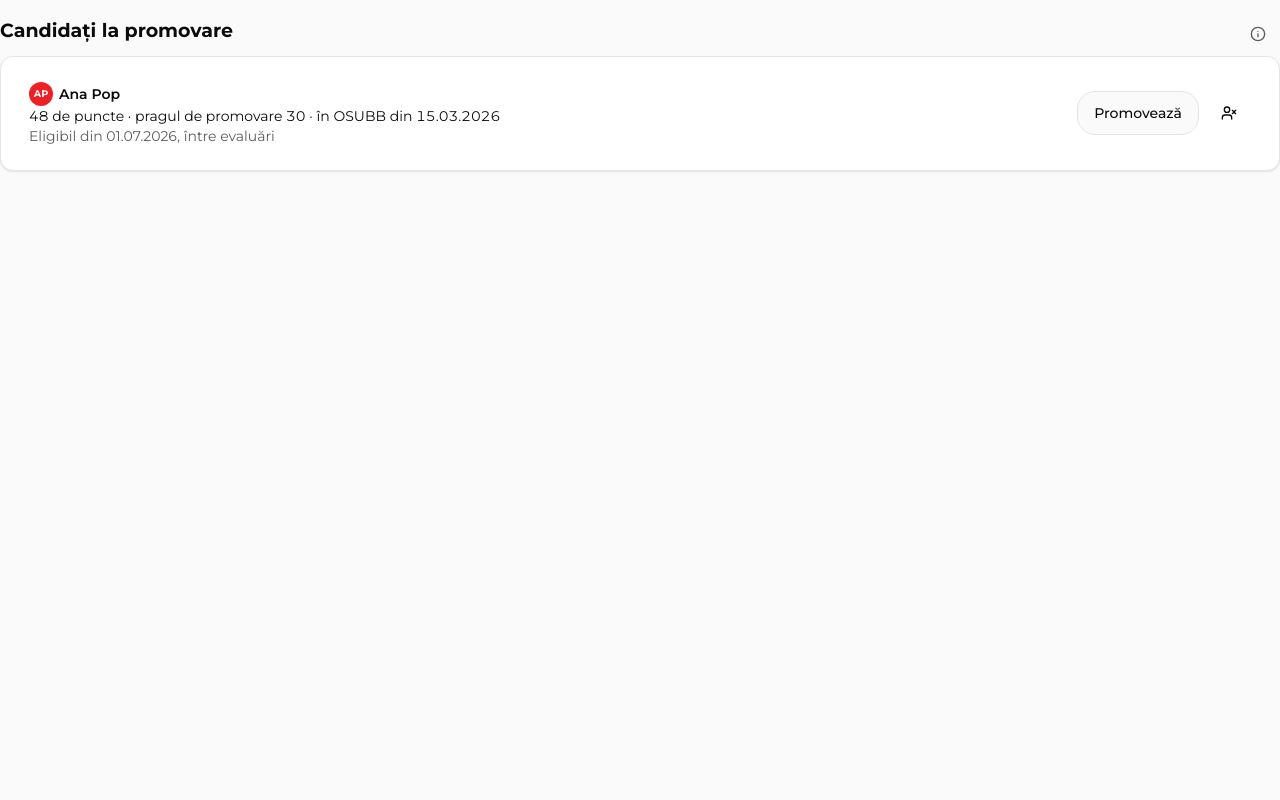
Scenario: names the Membership Cutoff Date, not the months of tenure, in what it explains
Step 1. Click the button named "Despre candidații la promovare" → x=1258, y=34, box [1236,12,1279,56]
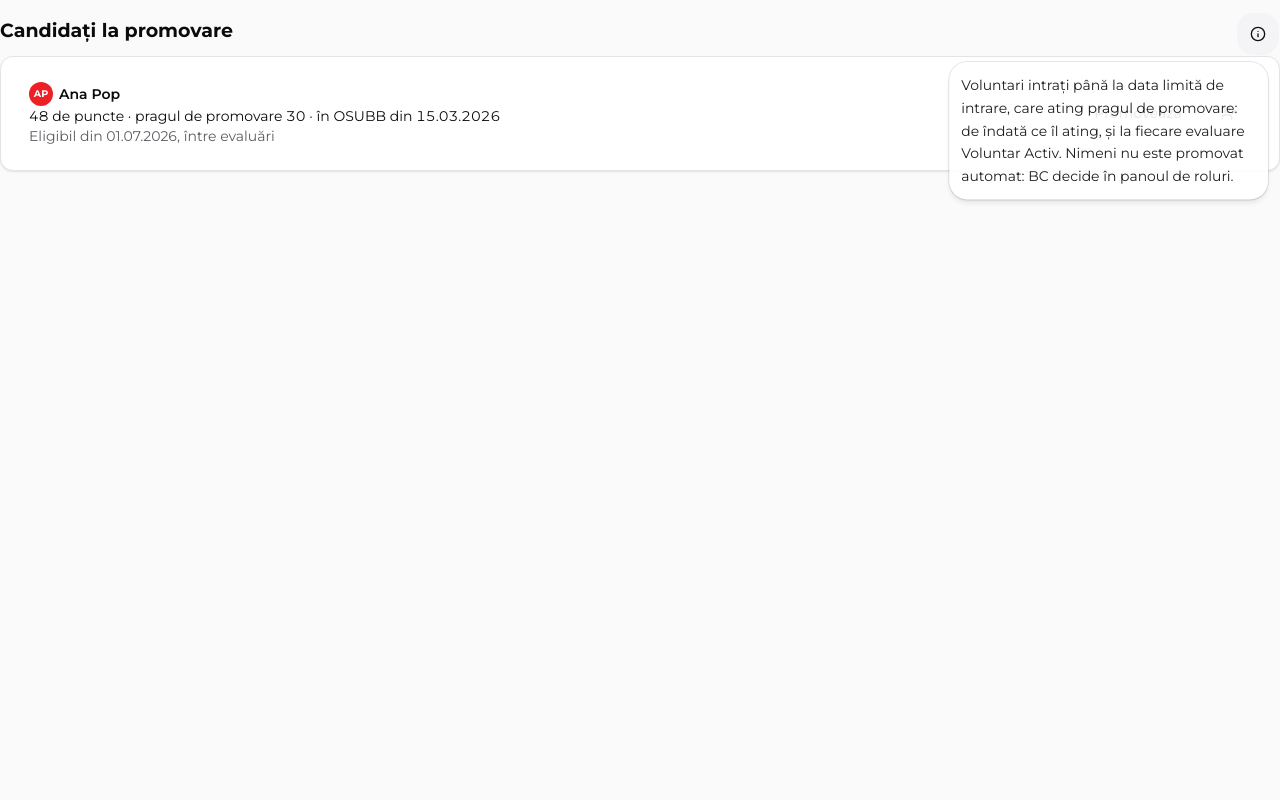
Expected: the text "Voluntari intrați până la data limită" does not show "vechime", [948,62,1268,200]
Now the text "Voluntari intrați până la data limită" shows "Voluntari intrați până la data limită de intrare, care ating pragul de promovare: de îndată ce îl ating, și la fiecare evaluare Voluntar Activ. Nimeni nu este p", box [960,76,1244,185]
